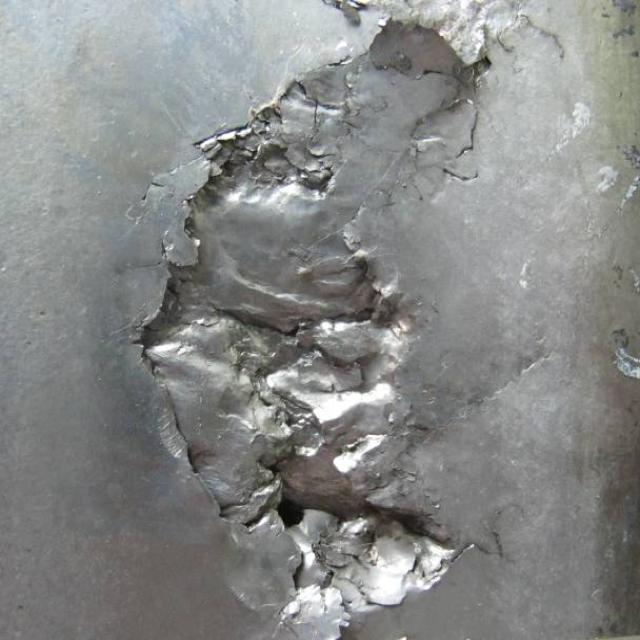Contact_Fatigue_Cracks: (456, 480, 523, 588), (499, 11, 571, 71)
Rollerpile: (138, 16, 483, 640)
